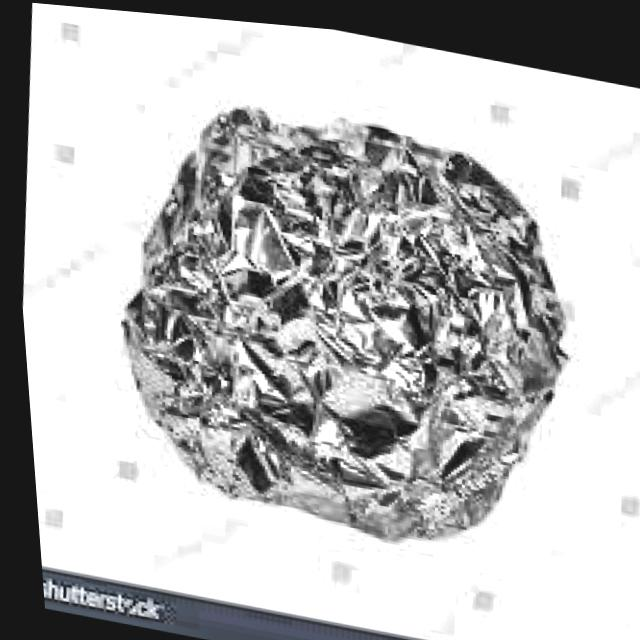Foil: (45, 46, 627, 570)
